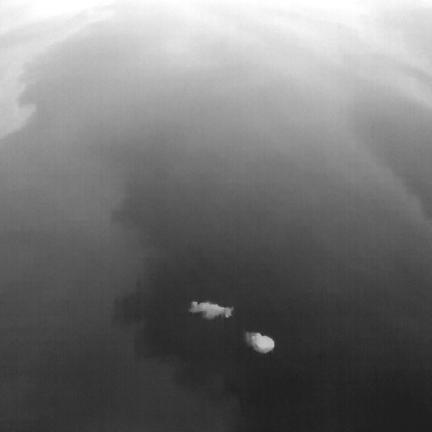flukeprints: (190, 301, 234, 319), (244, 332, 275, 354)
